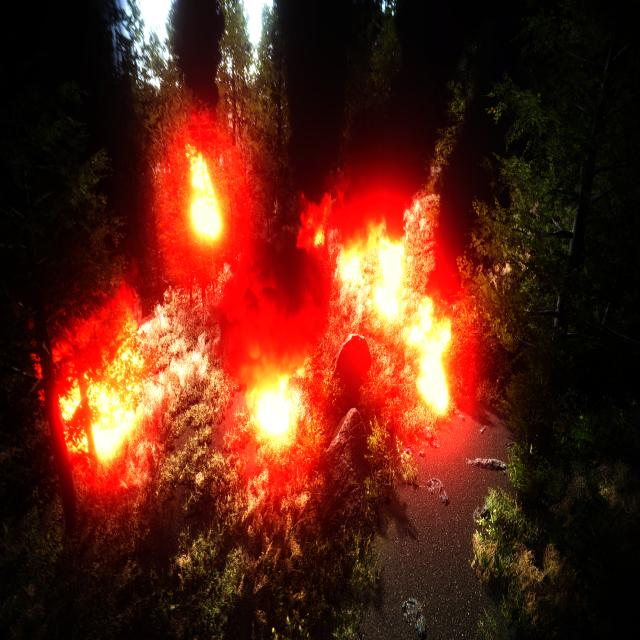Human: (344, 296, 353, 331)
